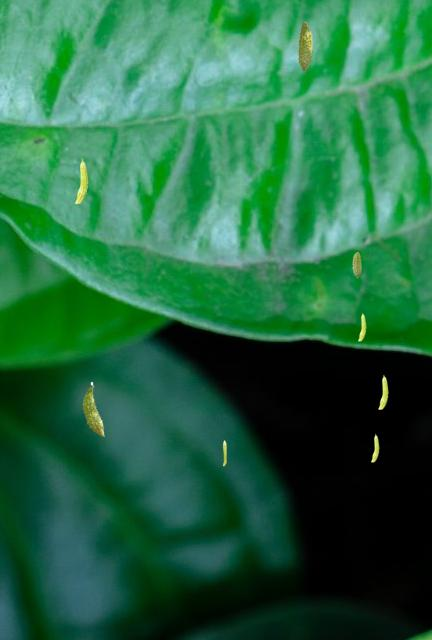ampalaya: (82, 381, 104, 436), (297, 20, 313, 72), (74, 158, 88, 204), (378, 374, 388, 410), (352, 251, 362, 278), (370, 433, 379, 462), (357, 312, 366, 341), (222, 440, 227, 466)
